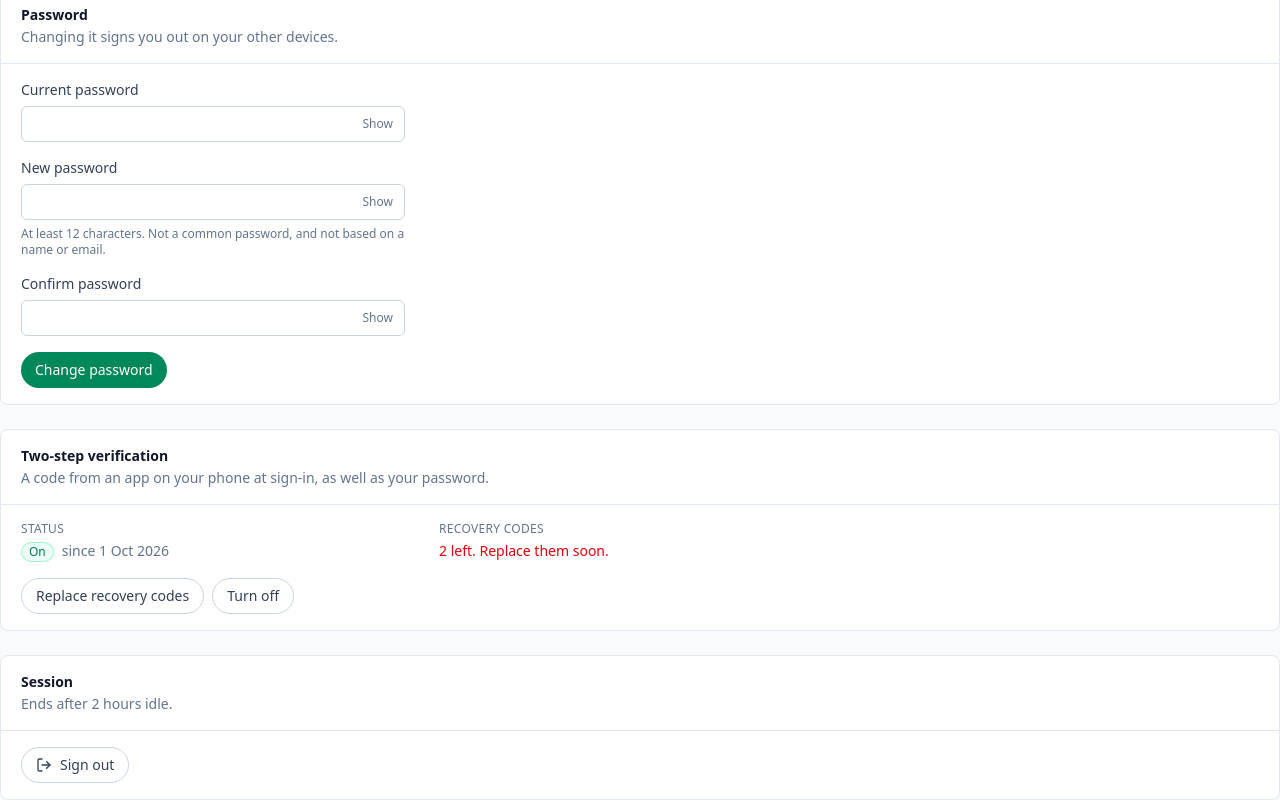
it: ProfilePage: two-step verification (ADR-0033) › replaces the recovery codes with a code from the app, showing the new ones once
The width and height of the screenshot is (1280, 800).
(page scrolled)
expect the text "2 left. Replace them soon." is shown: met, box [439, 541, 609, 560]
Click the button "Replace recovery codes" at (113, 596), box [21, 578, 204, 614]
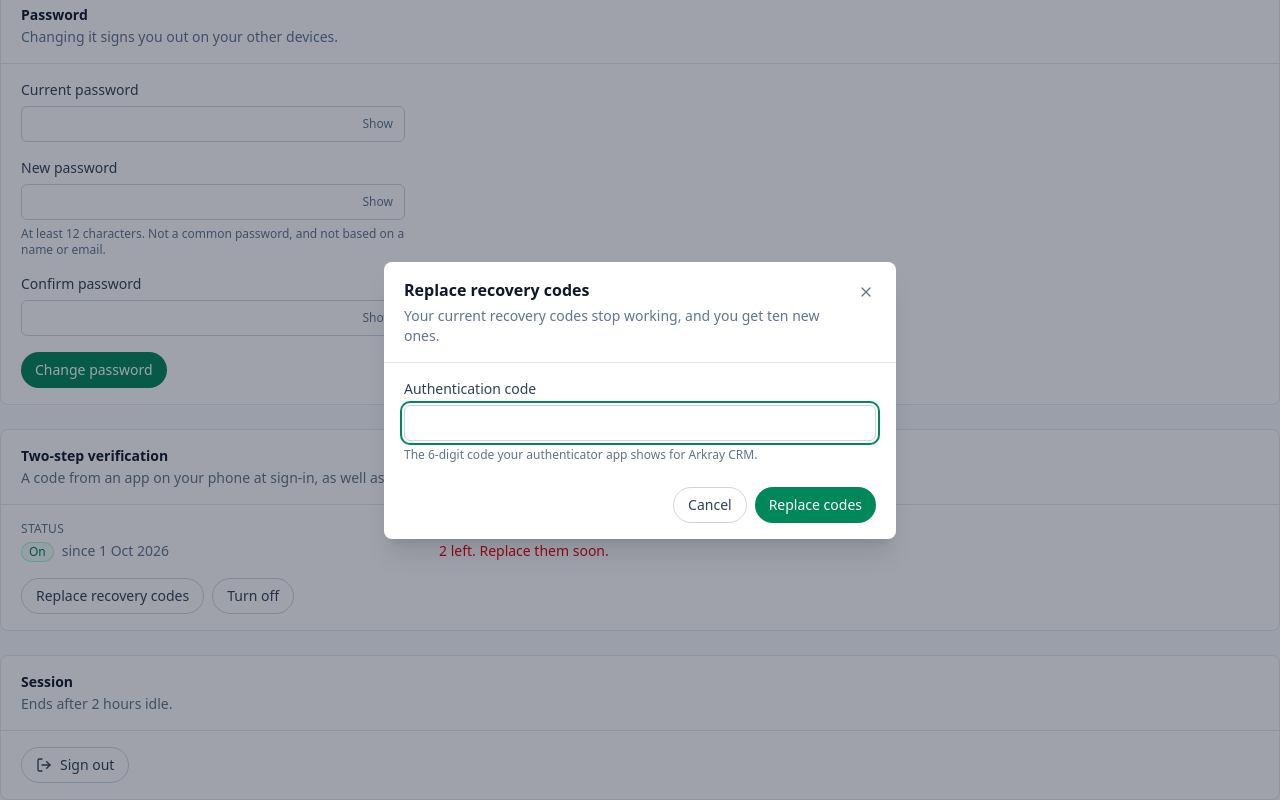
Note: A code is needed first.
Click the button "Replace codes" at (815, 504), box [755, 486, 876, 522]
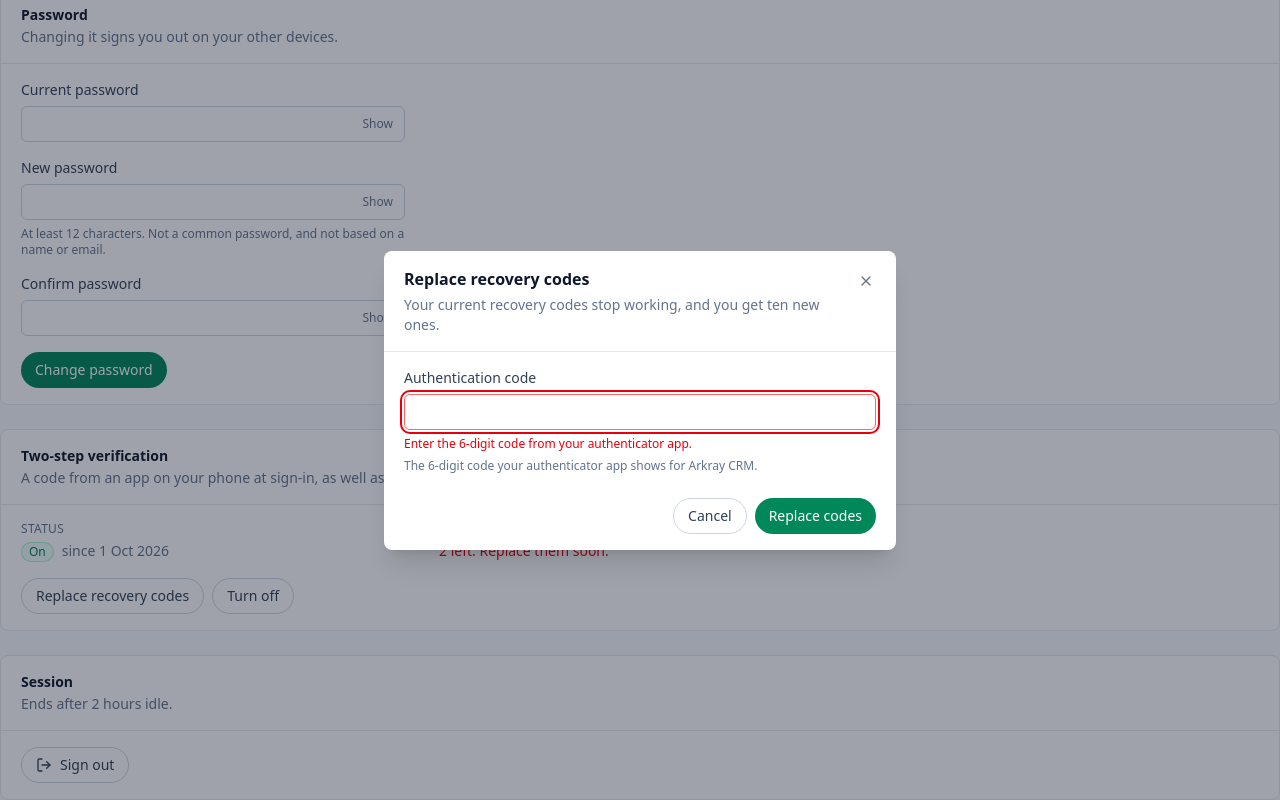
Type "123456" into the field labelled "Authentication code" at (640, 412), box [404, 394, 876, 430]
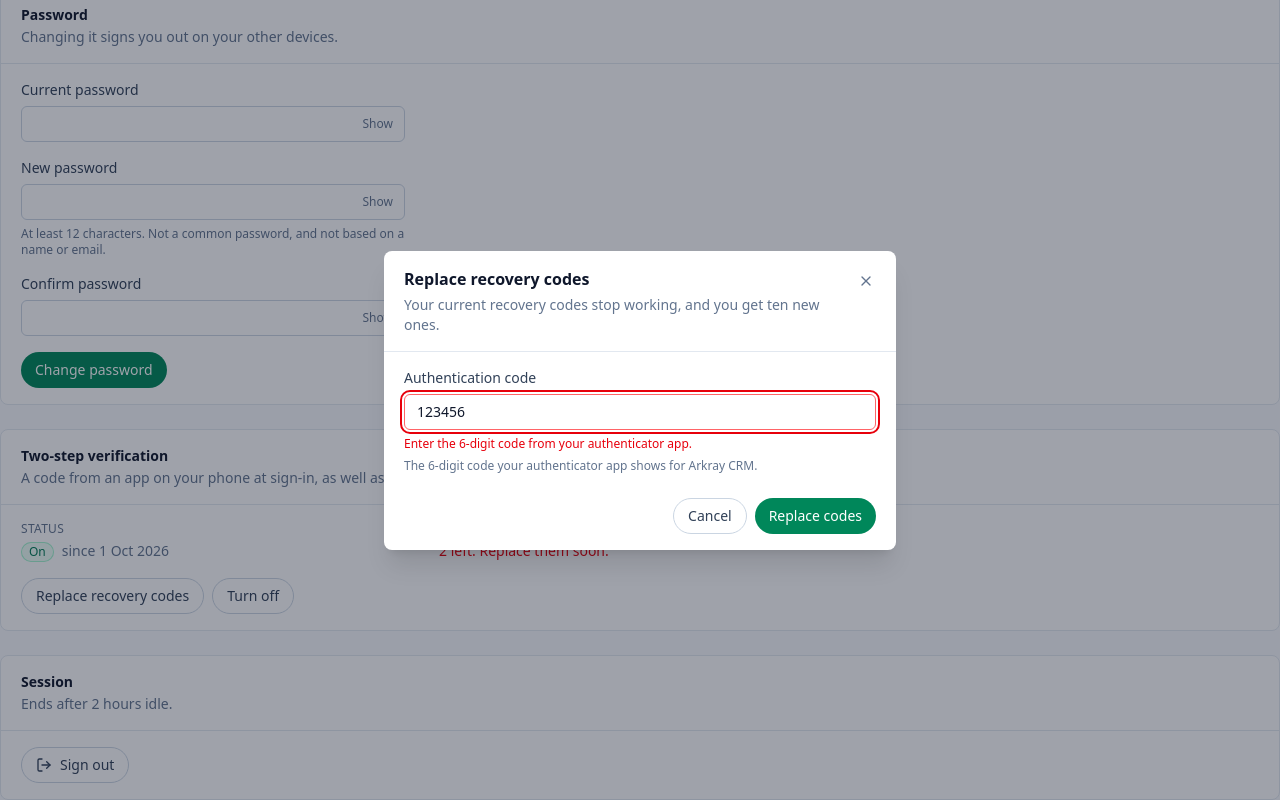
Click the button "Replace codes" at (815, 516), box [755, 498, 876, 534]
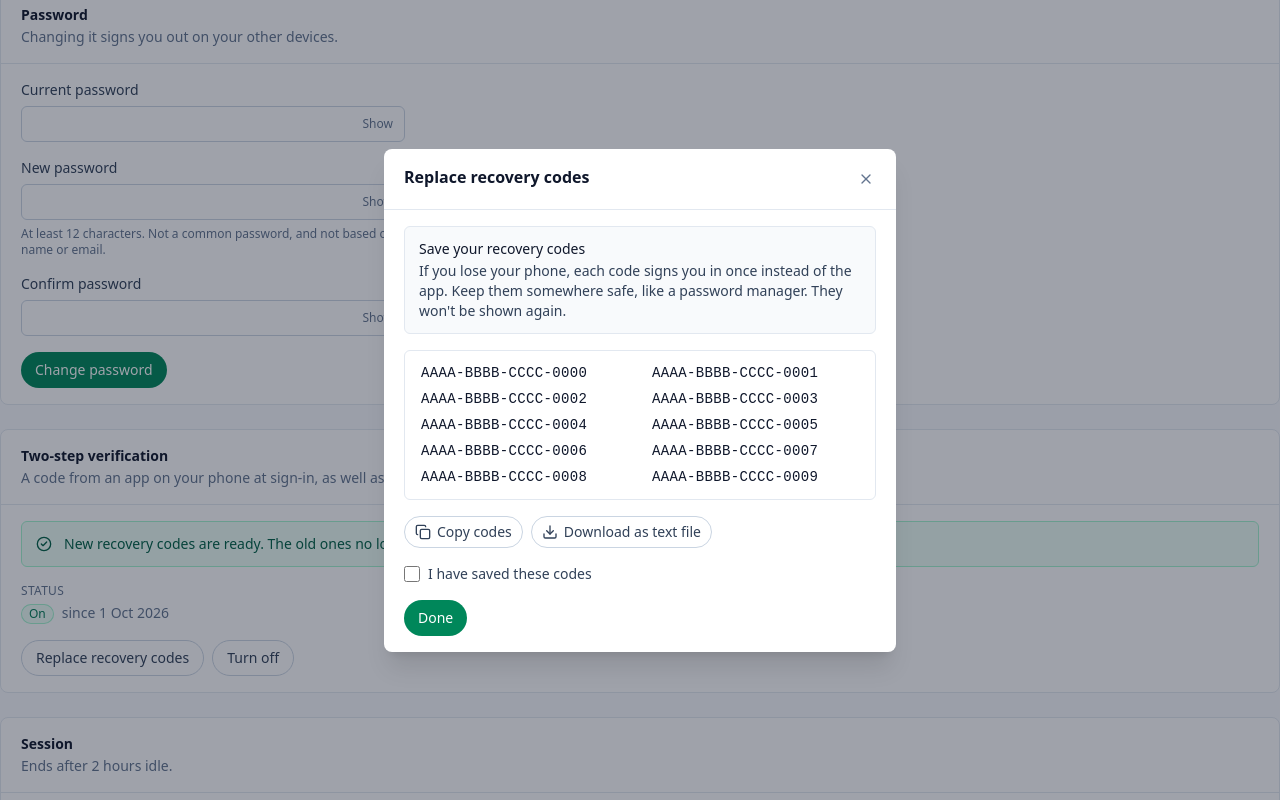
expect the number of list items is 10: met
Click the checkbox labelled "I have saved these codes" at (412, 574), box [404, 566, 420, 582]
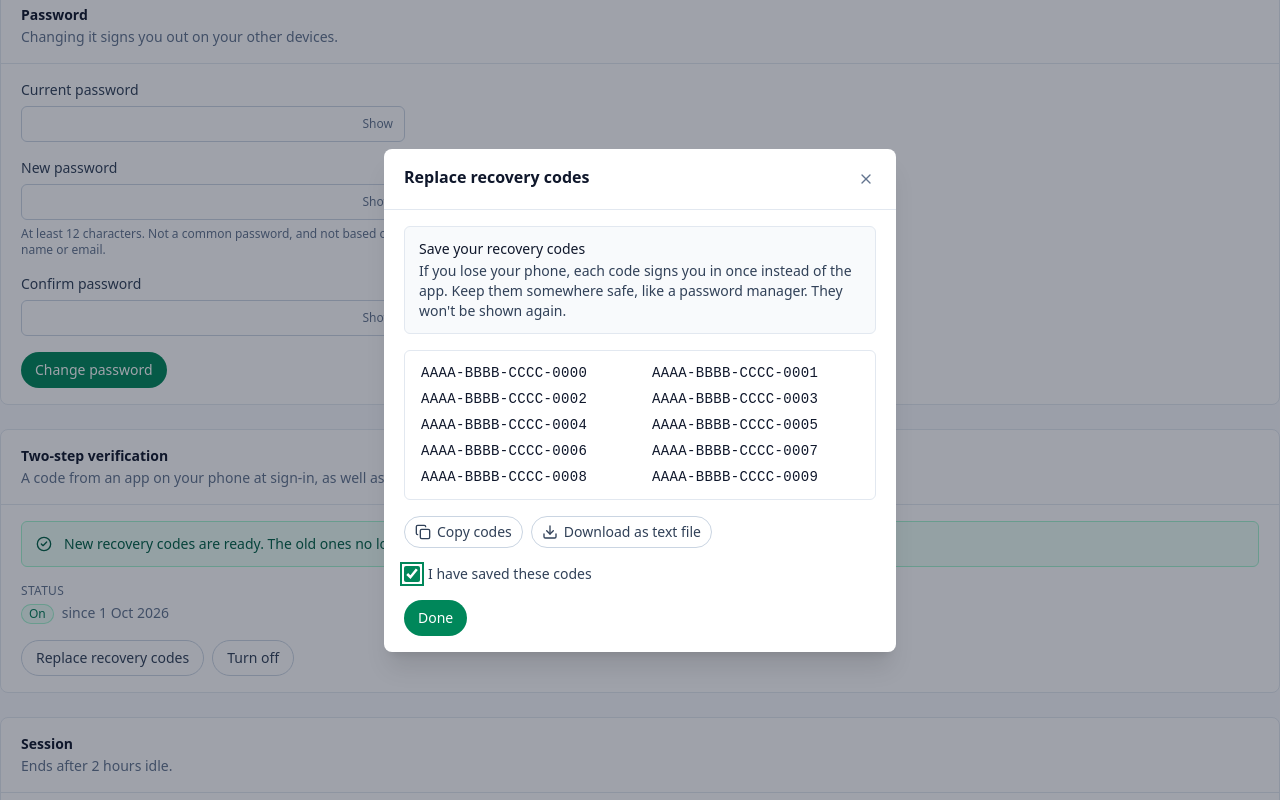
Click the button "Done" at (436, 618), box [404, 600, 467, 636]
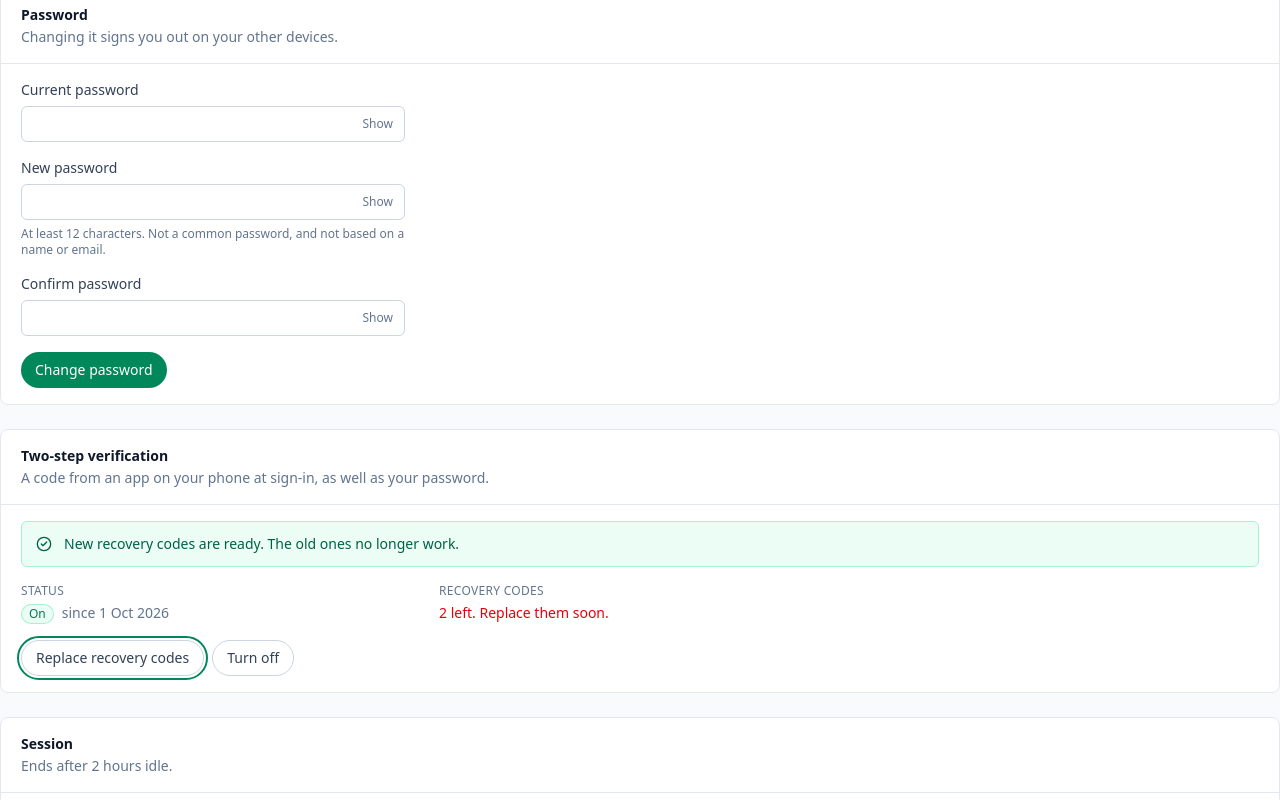
expect the dialog is gone: met
